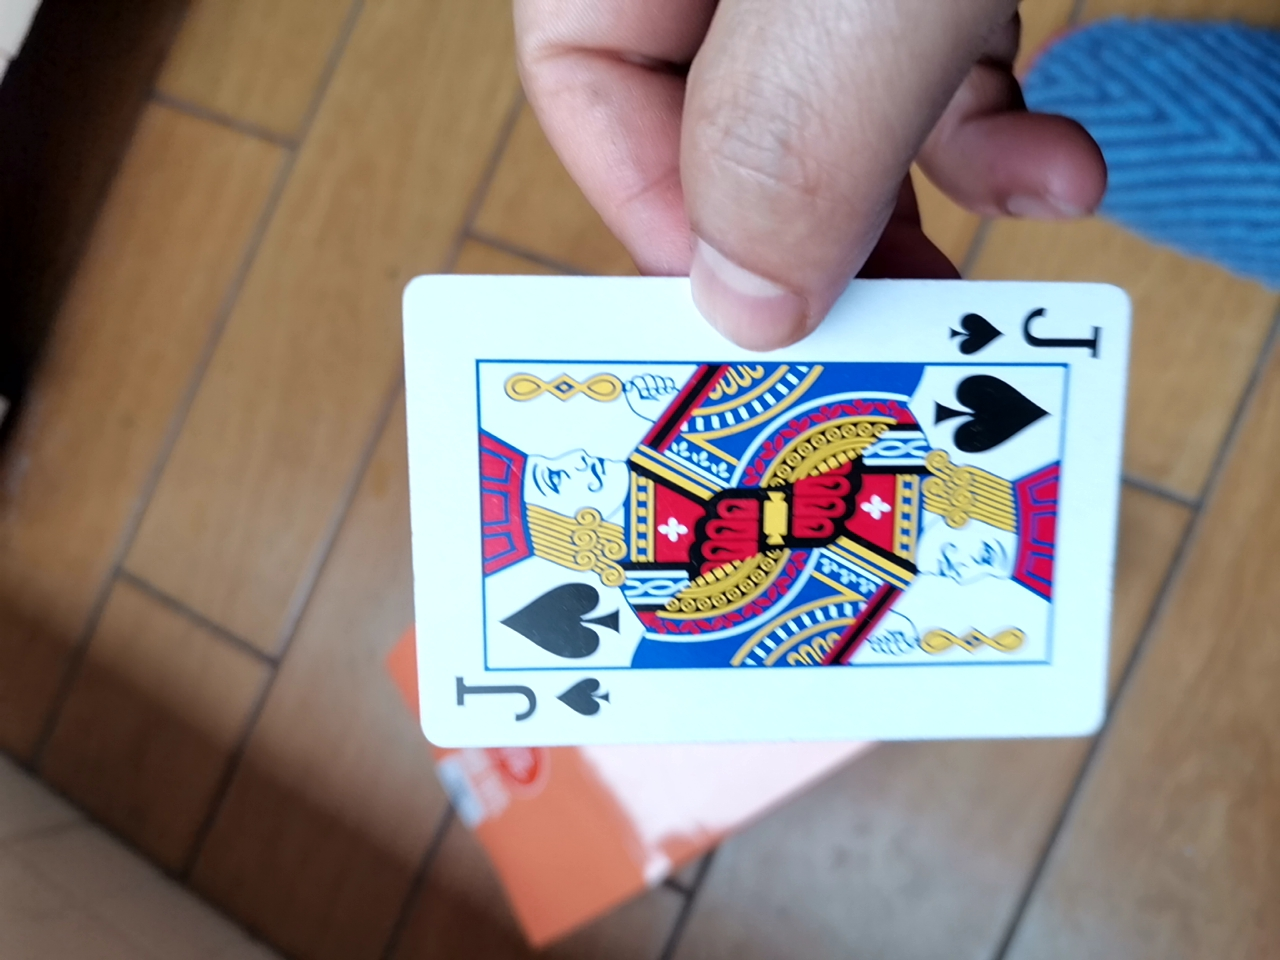ht j: (366, 255, 1127, 831)
